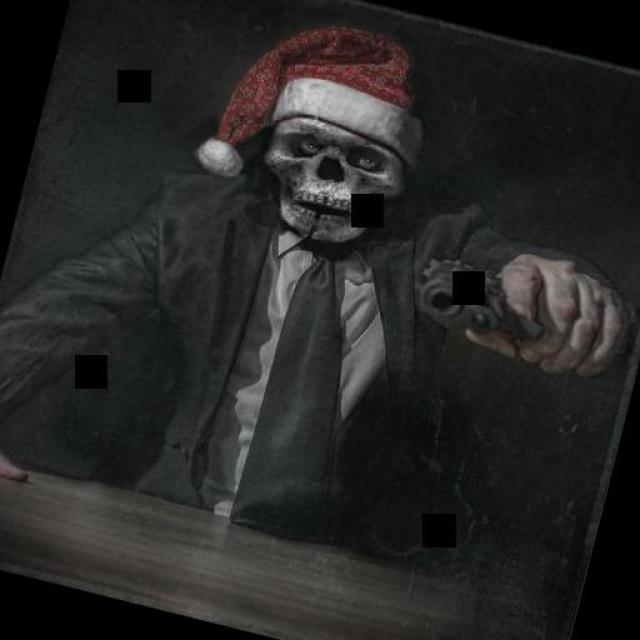gun: (400, 245, 555, 365)
